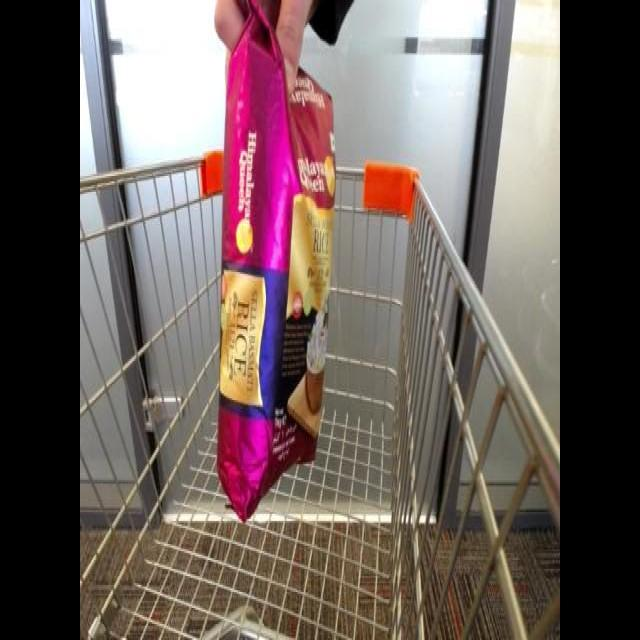Basmati Rice: (210, 14, 348, 526)
